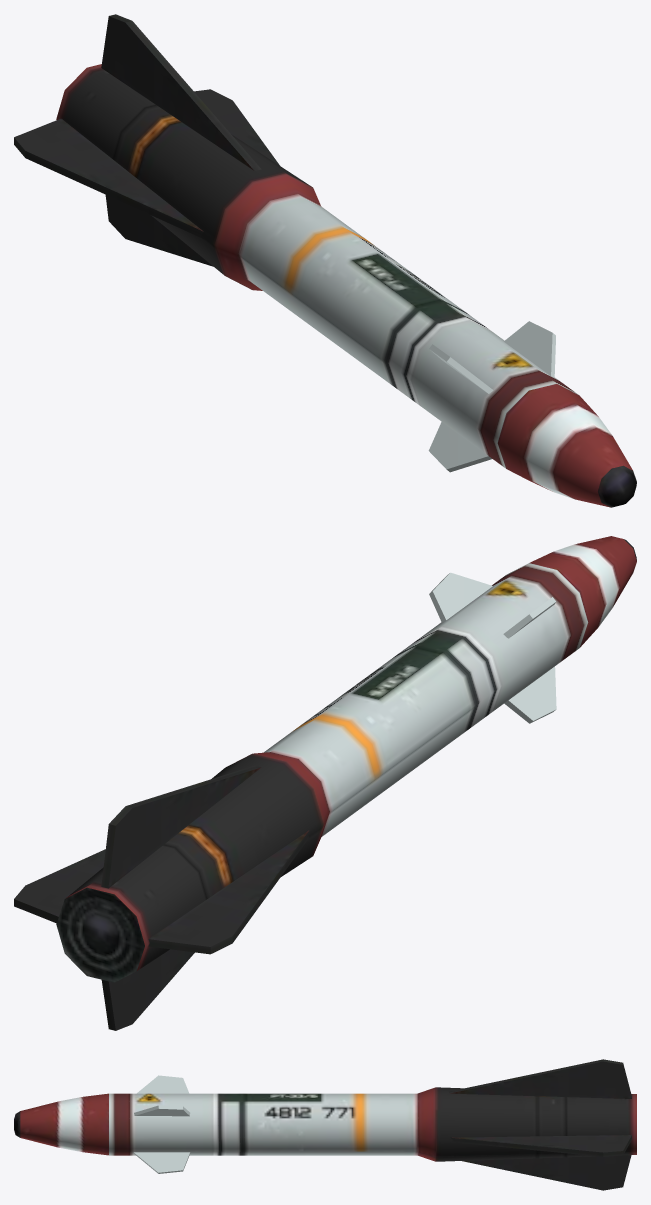
File: rocket-premium-v2.glb
3 views of the same model, one above another, from view 1: azimuth 30°, elevation 25°; view 2: azimuth 150°, elevation 25°; view 3: azimuth 270°, elevation 25° (orthographic). The views are drawn at different scales.
Parts seen in each view (by area): view 1: missile; view 2: missile; view 3: missile.
Part boxes in pixels (bbox=[...]): missile: bbox=[14, 14, 636, 507]; missile: bbox=[14, 536, 636, 1030]; missile: bbox=[14, 1059, 636, 1190].
Bounding box in the file's own units: 0.4562 × 0.4553 × 1.99.
1 material, 1 textured.
